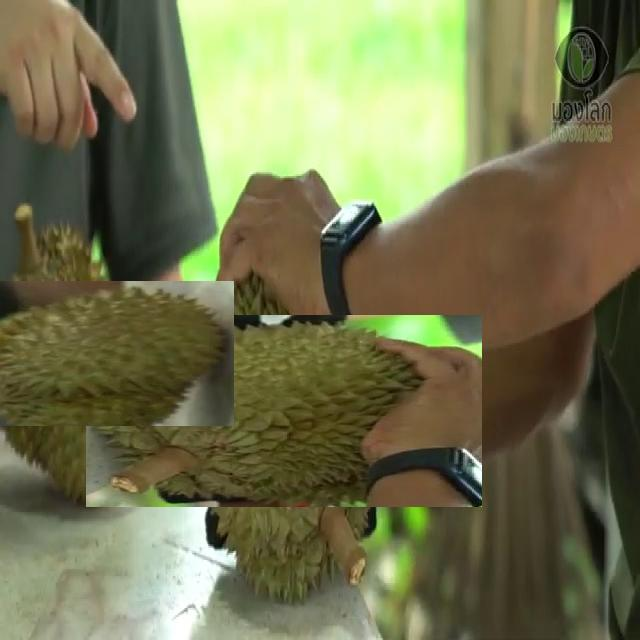durian: (137, 264, 431, 559), (0, 236, 191, 469)
